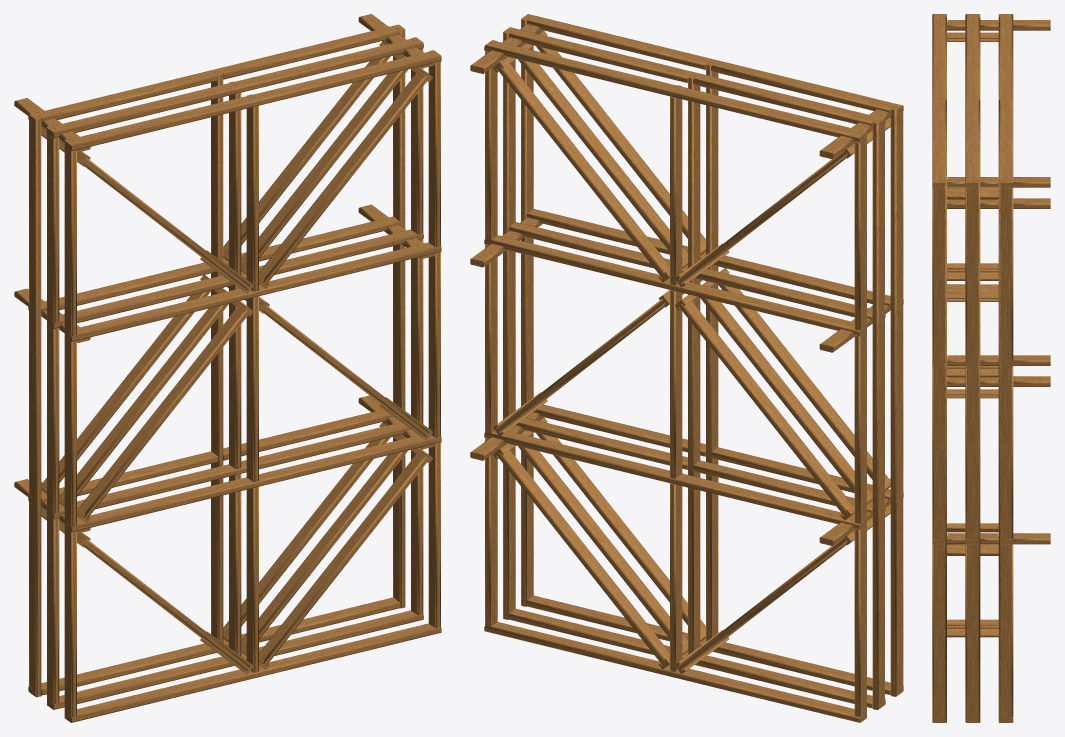
File: VCKB0050_VCKC0060_VCKC0060_VCKC0060.glb
3 renders of one model, left to right at view 1: azimuth 30°, elevation 25°; view 2: azimuth 150°, elevation 25°; view 3: azimuth 270°, elevation 25°, orthographic. The views are drawn at different scales.
Visible parts, largest first — view 1: G-Difference.033, G-Difference.032; view 2: G-Difference.033, G-Difference.032; view 3: G-Difference.033, G-Difference.032.
Boxes of the visible parts, <box> form: G-Difference.033: <box>14,14,441,722</box>; G-Difference.032: <box>41,40,432,674</box>; G-Difference.033: <box>470,14,903,722</box>; G-Difference.032: <box>493,30,890,673</box>; G-Difference.033: <box>932,14,1050,722</box>; G-Difference.032: <box>947,32,998,637</box>.
Size of the model in its own units: 0.812 by 1.21 by 0.241.
2 materials, 2 textured.
